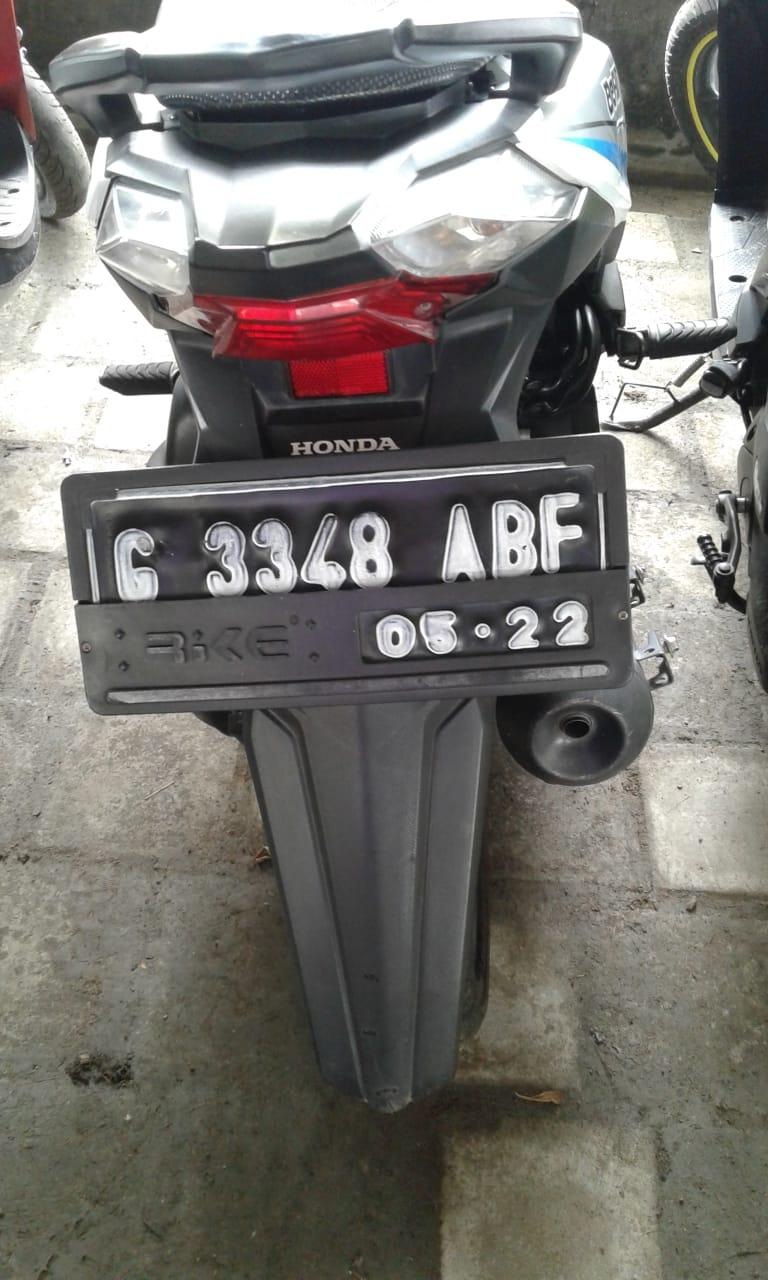plat: (62, 435, 630, 712)
